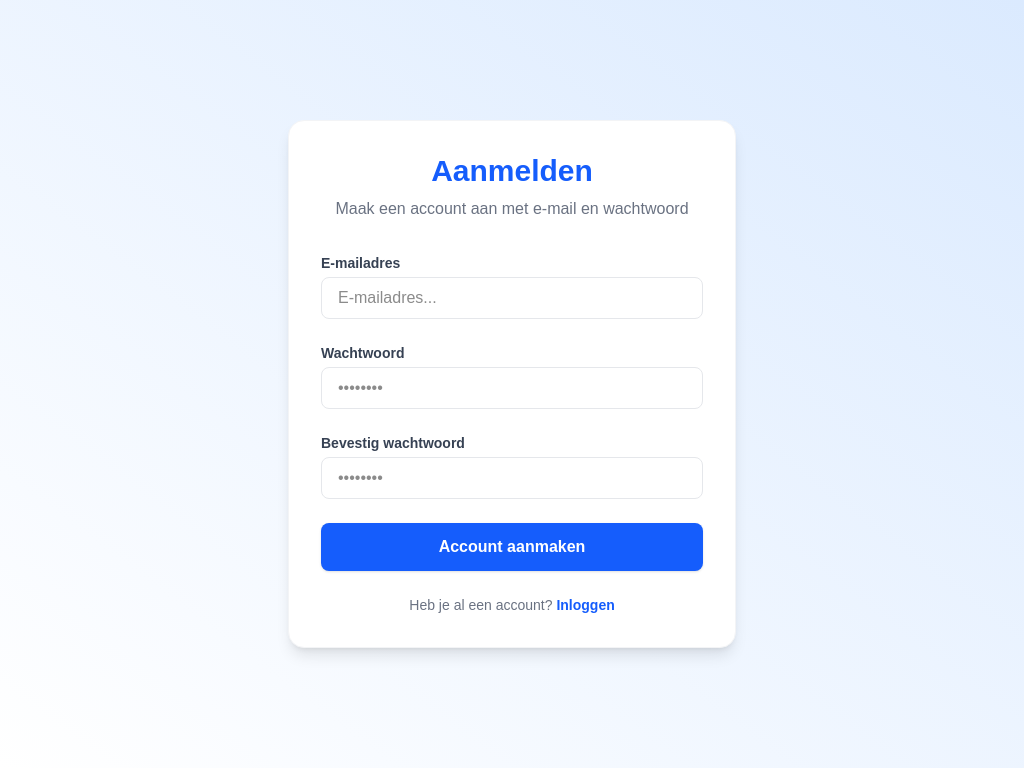
Test: SignupPage › shows error if passwords do not match
Step 1. Type "test@example.com" into the field labelled "E-mailadres" → (512, 298), box [321,277,703,319]
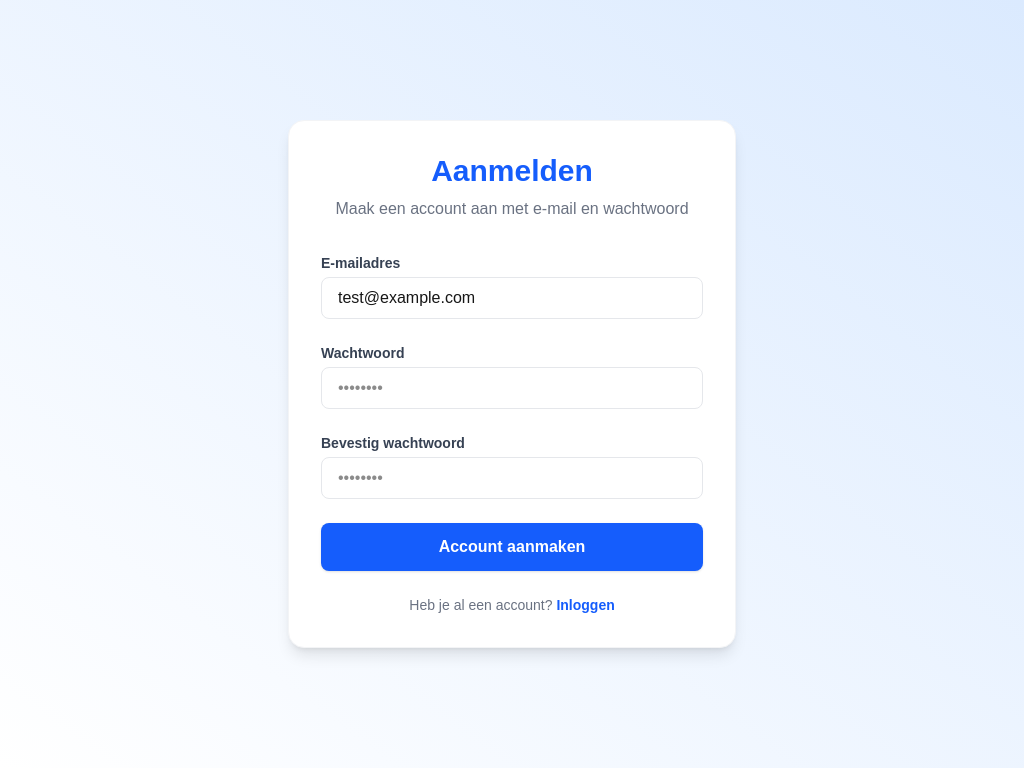
Step 2. Type "password1" into the password field labelled "Wachtwoord" → (512, 388), box [321,367,703,409]
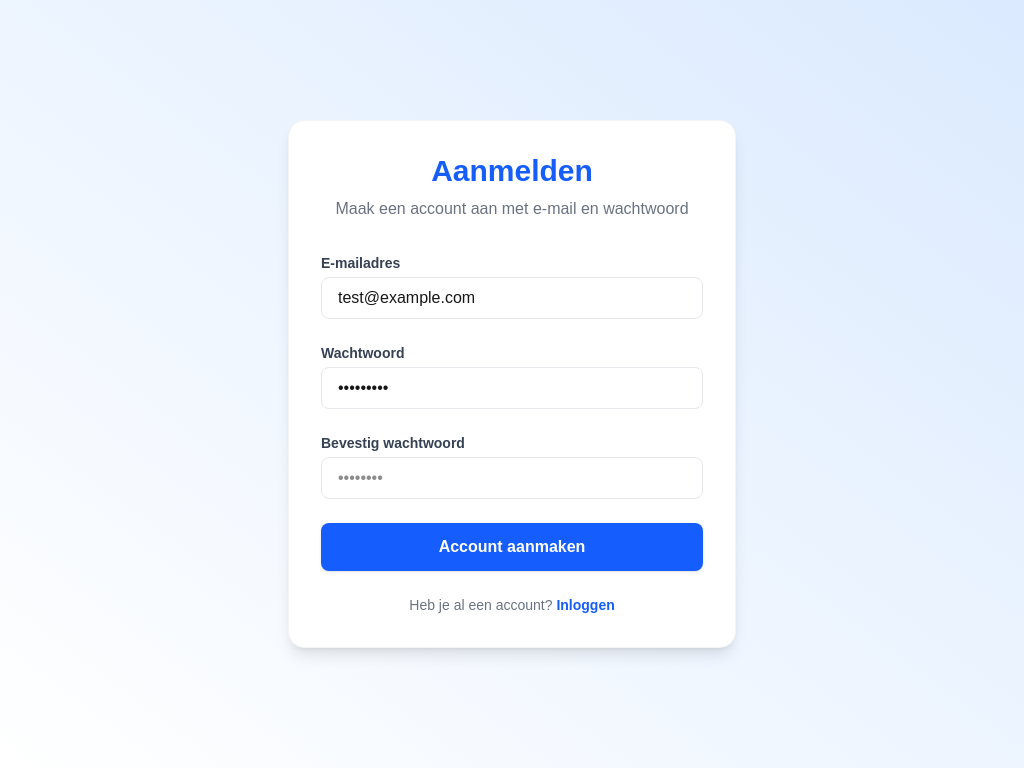
Step 3. Type "password2" into the password field labelled "Bevestig wachtwoord" → (512, 478), box [321,457,703,499]
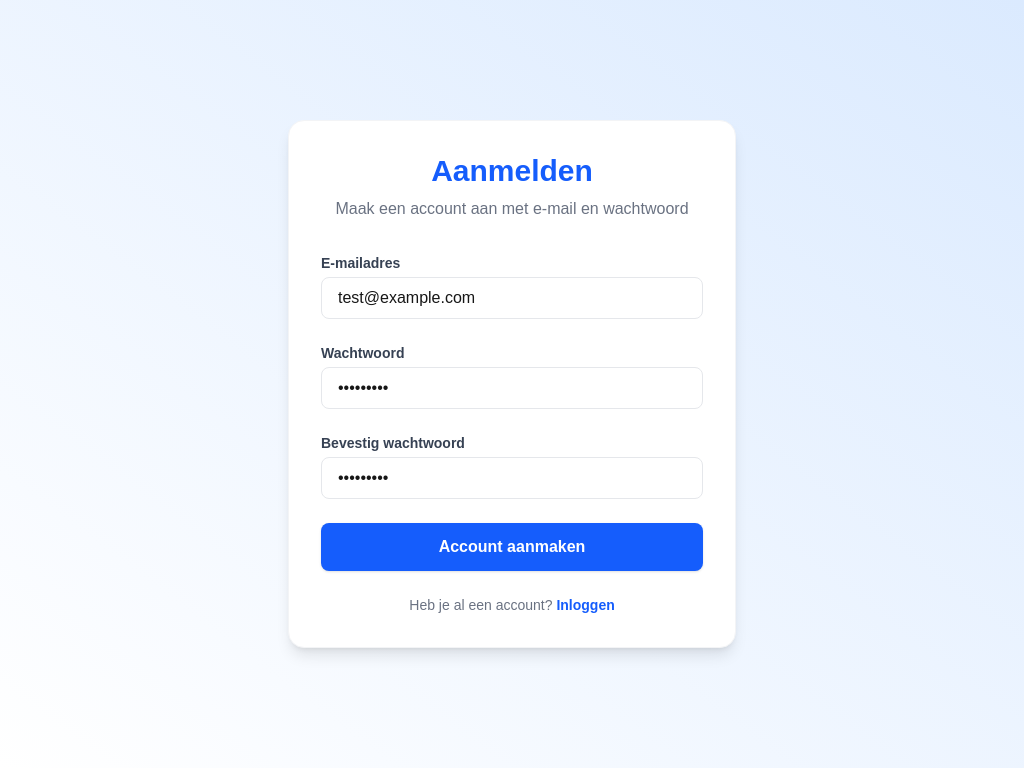
Step 4. Submit the form from the button "Account aanmaken", box [321,523,703,571]
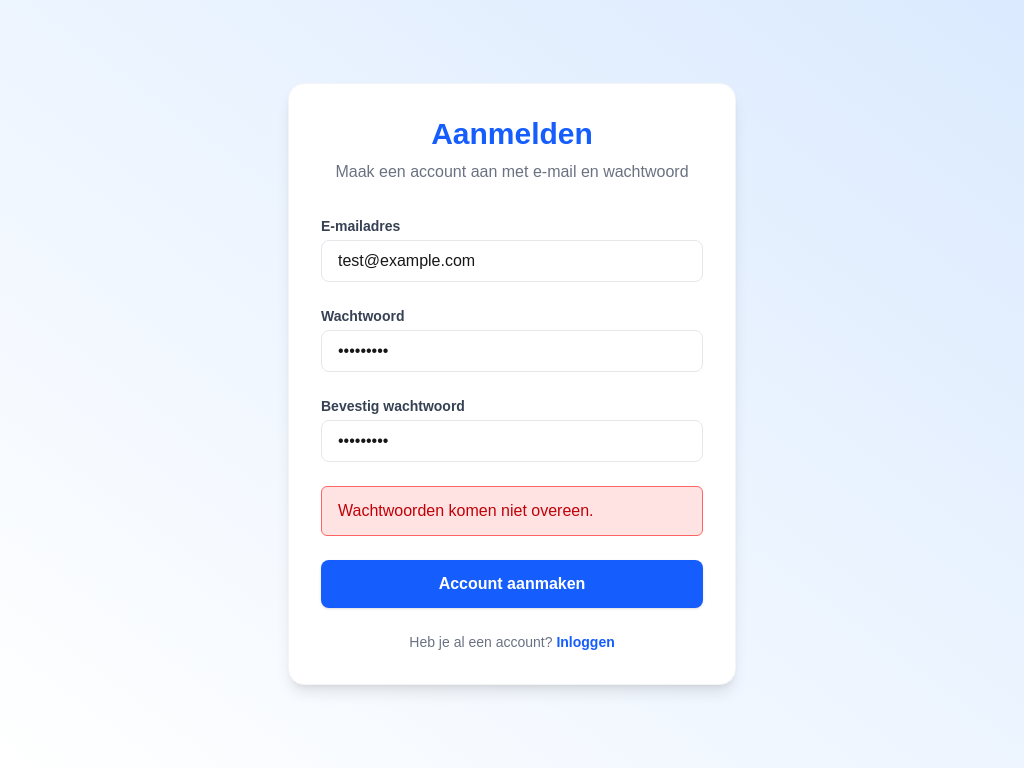
Check: the text "Wachtwoorden komen niet overeen." is shown, box [321,486,703,536]
